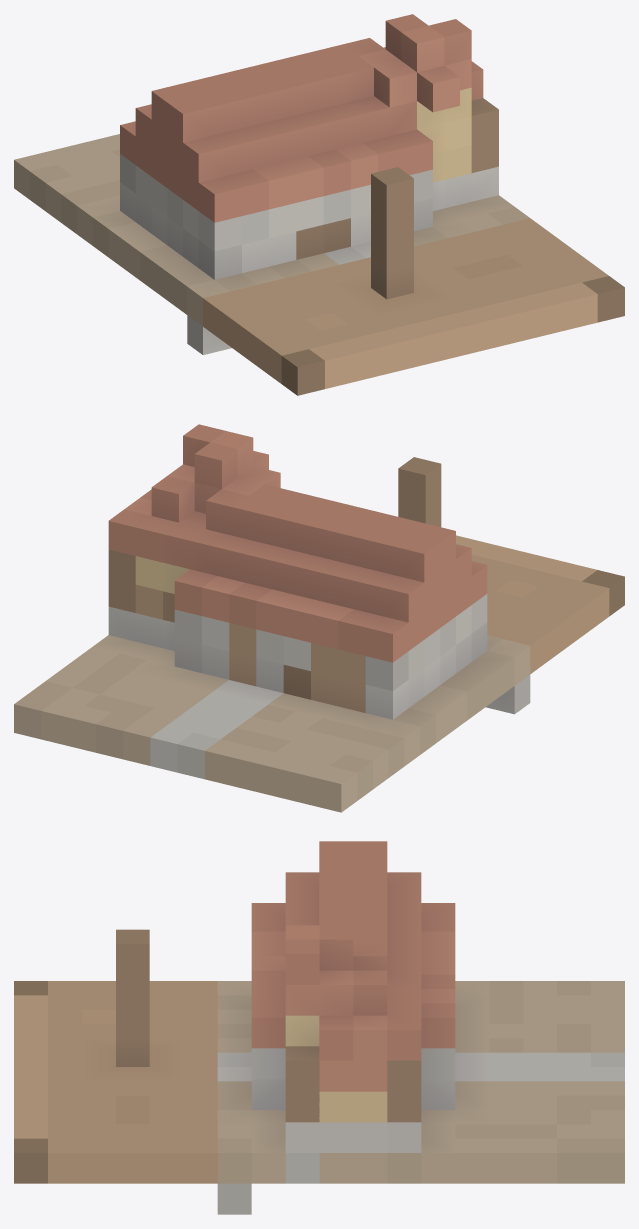
The model's file is trading_post.l4.lite.glb.
The picture shows the model from 3 angles, top to bottom: view 1: azimuth 30°, elevation 25°; view 2: azimuth 150°, elevation 25°; view 3: azimuth 270°, elevation 25°; orthographic projection. The views are drawn at different scales.
Visible parts, largest first — view 1: trading_post; view 2: trading_post; view 3: trading_post.
Part boxes in pixels (<box>): trading_post: <box>14,14,624,395</box>; trading_post: <box>14,424,624,812</box>; trading_post: <box>14,841,624,1214</box>.
Bounding box in the file's own units: 6 × 4 × 9.
